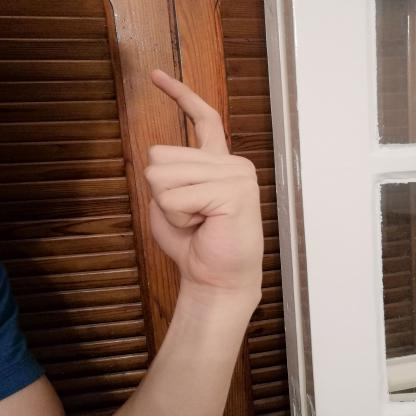RAA: (130, 63, 282, 297)
